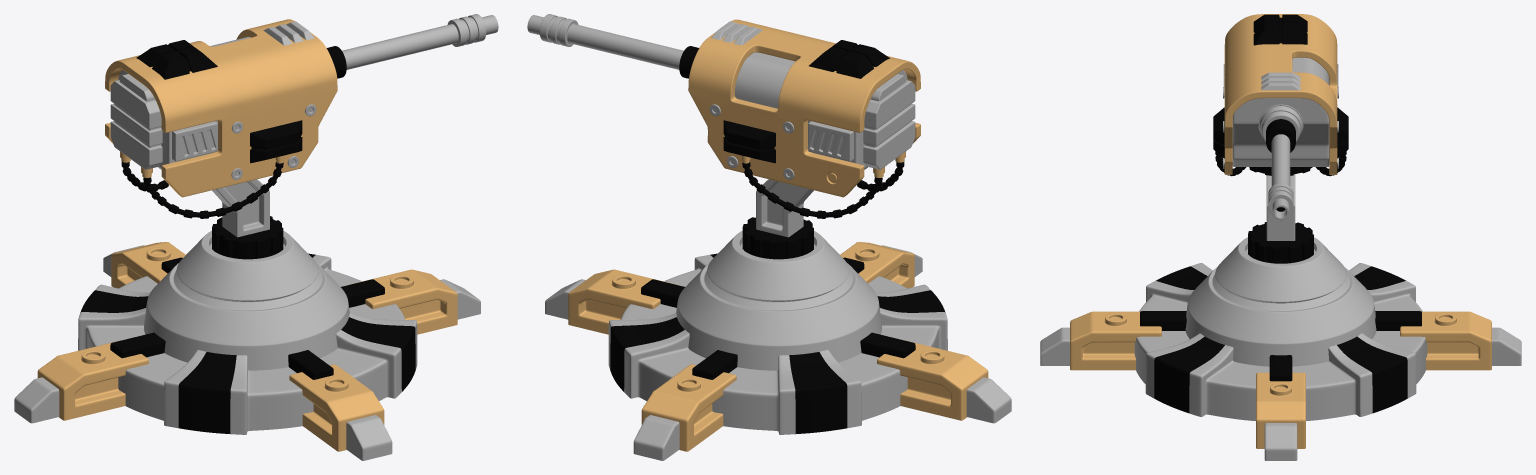
The model's file is laser_tower.glb.
3 views of the same model, side by side, from view 1: azimuth 30°, elevation 25°; view 2: azimuth 150°, elevation 25°; view 3: azimuth 270°, elevation 25° (orthographic). The views are drawn at different scales.
Visible parts, largest first — view 1: Base_high, Legs_high, Cover_high, Top_Base_high, Power_high, Barel_high, Neck_high, Gear_Bottom_high, Decor_002_high, Cable_high, Decor_000_high, Decor_001_high (+1 smaller); view 2: Base_high, Legs_high, Top_Base_high, Cover_high, Power_high, Barel_high, Body_high, Neck_high, Gear_Bottom_high, Decor_002_high, Cable_high, Decor_000_high (+1 smaller); view 3: Base_high, Legs_high, Top_Base_high, Cover_high, Body_high, Barel_high, Gear_Bottom_high, Decor_002_high, Neck_high, Decor_000_high.
Part boxes in pixels (<box>): Base_high: <box>78,253,417,434</box>; Legs_high: <box>14,242,480,460</box>; Cover_high: <box>105,19,337,197</box>; Top_Base_high: <box>144,231,349,370</box>; Power_high: <box>110,74,162,169</box>; Barel_high: <box>326,14,498,78</box>; Neck_high: <box>212,179,269,237</box>; Gear_Bottom_high: <box>212,216,283,259</box>; Decor_002_high: <box>136,40,217,79</box>; Cable_high: <box>121,162,283,218</box>; Decor_000_high: <box>250,120,302,163</box>; Decor_001_high: <box>172,121,218,161</box>; Base_high: <box>608,253,947,434</box>; Legs_high: <box>545,242,1011,460</box>; Top_Base_high: <box>676,231,881,370</box>; Cover_high: <box>688,19,920,197</box>; Power_high: <box>863,74,915,169</box>; Barel_high: <box>527,14,698,78</box>; Body_high: <box>735,52,907,169</box>; Neck_high: <box>756,179,813,237</box>; Gear_Bottom_high: <box>742,217,813,259</box>; Decor_002_high: <box>809,40,889,78</box>; Cable_high: <box>742,162,904,218</box>; Decor_000_high: <box>723,120,775,163</box>; Base_high: <box>1134,263,1427,420</box>; Legs_high: <box>1040,311,1521,460</box>; Top_Base_high: <box>1185,237,1376,366</box>; Cover_high: <box>1223,14,1338,174</box>; Body_high: <box>1232,57,1329,166</box>; Barel_high: <box>1258,104,1303,220</box>; Gear_Bottom_high: <box>1248,222,1313,263</box>; Decor_002_high: <box>1253,14,1307,45</box>; Neck_high: <box>1266,174,1295,240</box>; Decor_000_high: <box>1213,107,1348,158</box>.
Size of the model in its own units: 3.39 by 2.27 by 3.24.
